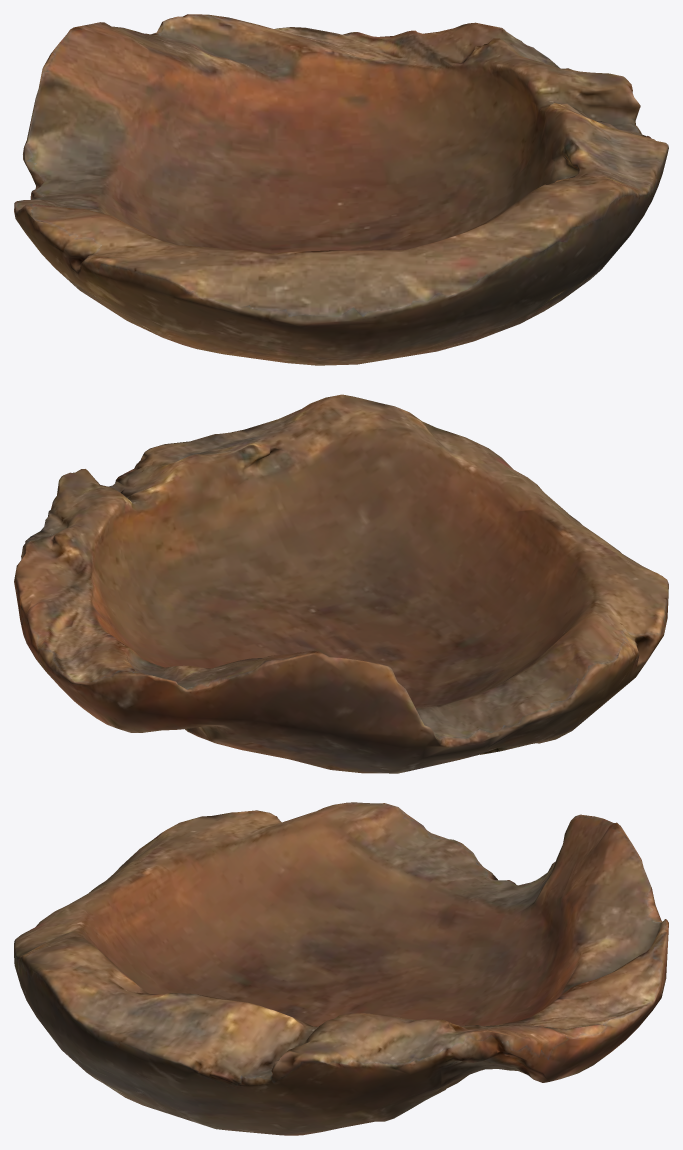
The model's file is wooden_bowl_01.glb.
3 renders of one model, top to bottom at view 1: azimuth 30°, elevation 25°; view 2: azimuth 150°, elevation 25°; view 3: azimuth 270°, elevation 25°, orthographic. The views are drawn at different scales.
Visible parts, largest first — view 1: wooden_bowl_01; view 2: wooden_bowl_01; view 3: wooden_bowl_01.
Part boxes in pixels (box(x1,y1,x2,y2)): wooden_bowl_01: box(14, 14, 668, 365); wooden_bowl_01: box(14, 394, 668, 773); wooden_bowl_01: box(14, 802, 668, 1135).
Size of the model in its own units: 0.313 by 0.0937 by 0.3091.
Materials: 1 (1 with a texture image).
